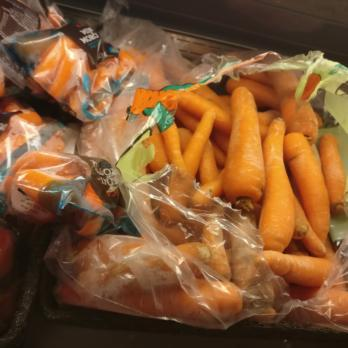Carrot: (165, 61, 348, 321), (212, 81, 269, 204)
